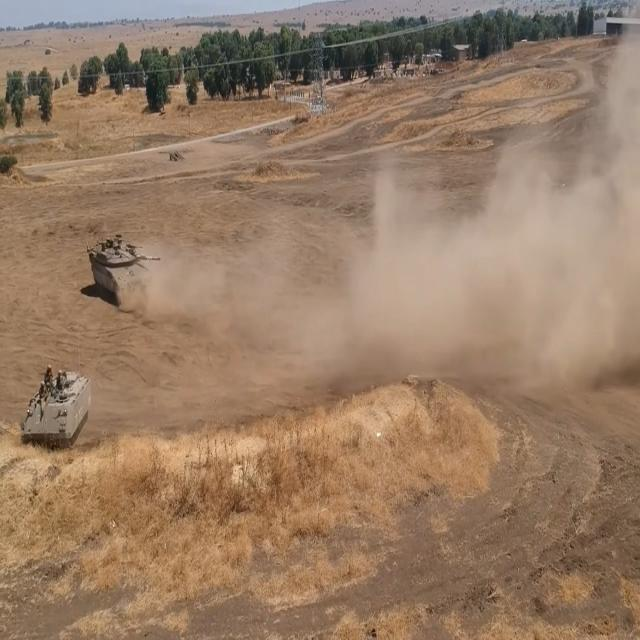tank: (85, 235, 171, 315)
